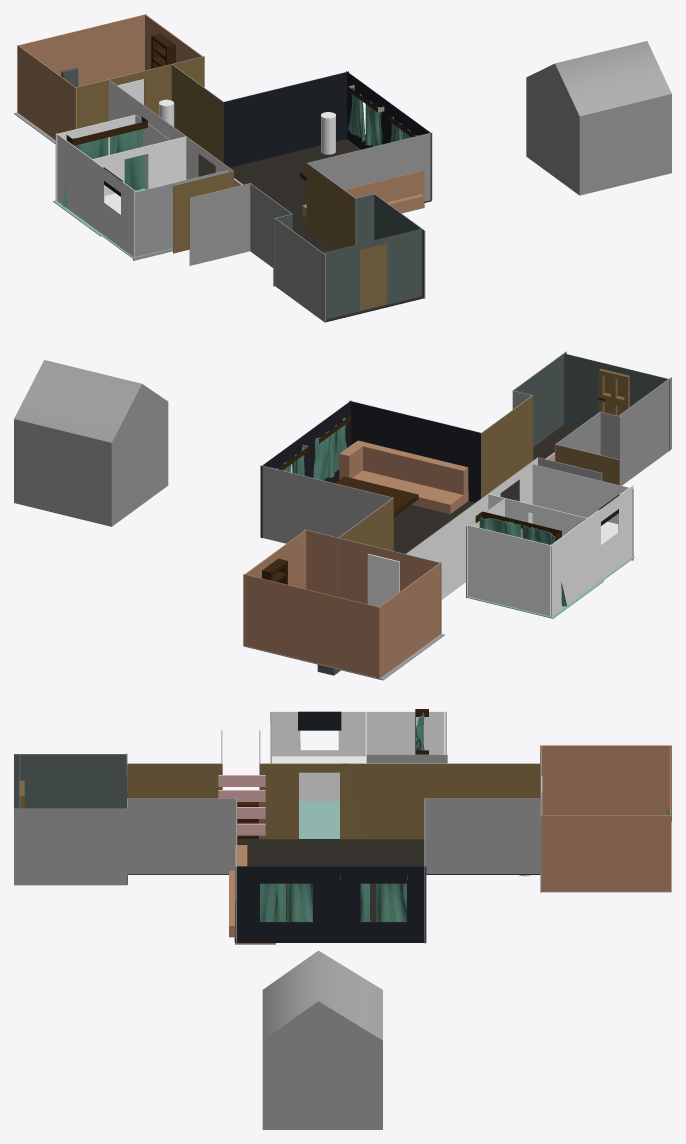
Rendered from First_Floor.fbx.
The picture shows the model from 3 angles, top to bottom: view 1: azimuth 30°, elevation 25°; view 2: azimuth 150°, elevation 25°; view 3: azimuth 270°, elevation 25°; orthographic projection. The views are drawn at different scales.
Visible parts, largest first — view 1: Walls, GardenHouse, Curtains4, Sofa, Outdoor, Curtains7, pCube65, Lamp1, polySurface15; view 2: Walls, GardenHouse, Sofa, Curtains4, OfficeDoor, Curtains3, Outdoor, Table1, pCube65; view 3: Walls, GardenHouse, Curtains3, pCube55, Babygate, polySurface15, KitchenCurtain, Sofa.
Boxes of the visible parts, <box> form: Walls: <box>14,14,432,322</box>; GardenHouse: <box>526,41,671,195</box>; Curtains4: <box>63,116,147,206</box>; Sofa: <box>302,170,424,217</box>; Outdoor: <box>360,243,387,310</box>; Curtains7: <box>348,85,384,146</box>; pCube65: <box>151,33,175,68</box>; Lamp1: <box>321,112,335,154</box>; polySurface15: <box>347,87,365,142</box>; Walls: <box>243,351,671,680</box>; GardenHouse: <box>14,360,168,526</box>; Sofa: <box>339,440,468,514</box>; Curtains4: <box>475,511,566,606</box>; OfficeDoor: <box>368,554,399,606</box>; Curtains3: <box>313,416,350,480</box>; Outdoor: <box>598,369,629,415</box>; Table1: <box>335,476,418,517</box>; pCube65: <box>262,558,287,584</box>; Walls: <box>14,711,671,943</box>; GardenHouse: <box>262,950,382,1129</box>; Curtains3: <box>260,883,312,921</box>; pCube55: <box>272,756,365,801</box>; Babygate: <box>218,775,265,835</box>; polySurface15: <box>376,883,406,921</box>; KitchenCurtain: <box>298,711,341,730</box>; Sofa: <box>229,845,275,944</box>.
Size of the model in its own units: 57.06 by 11.55 by 53.55.
